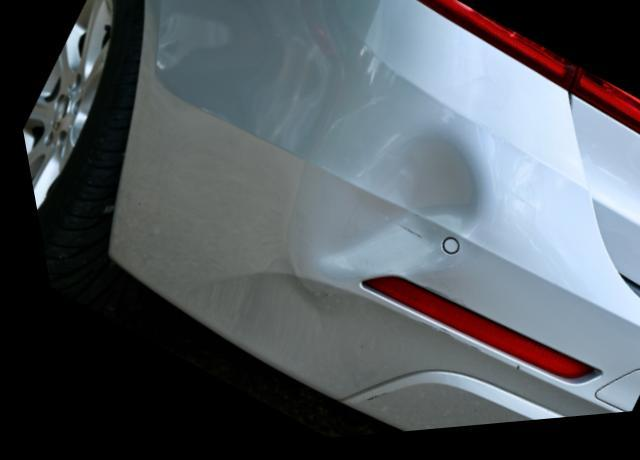dent: (300, 137, 479, 281)
